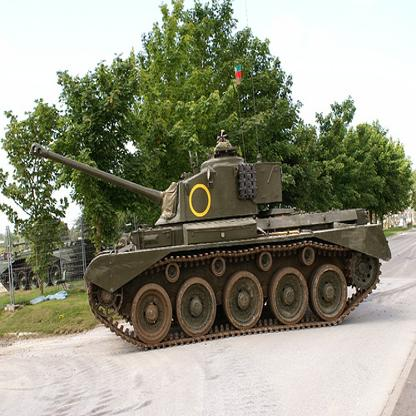Tank: (20, 128, 389, 342)
